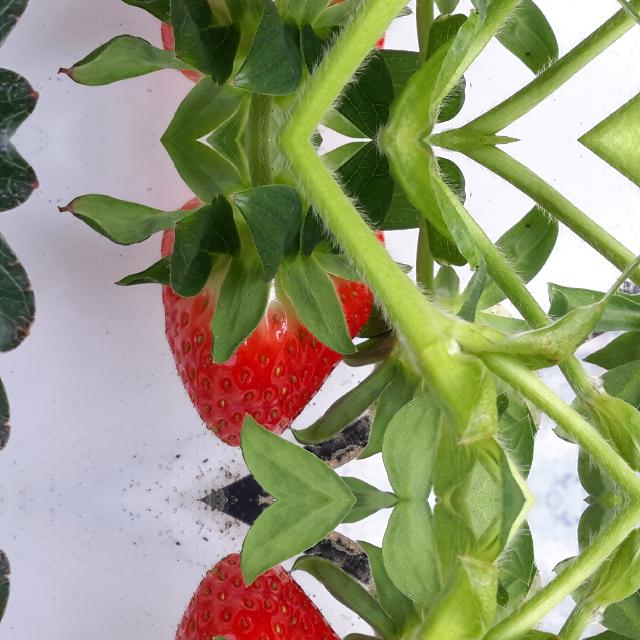Health_100: (160, 198, 386, 444), (160, 556, 385, 640), (160, 0, 385, 82)
